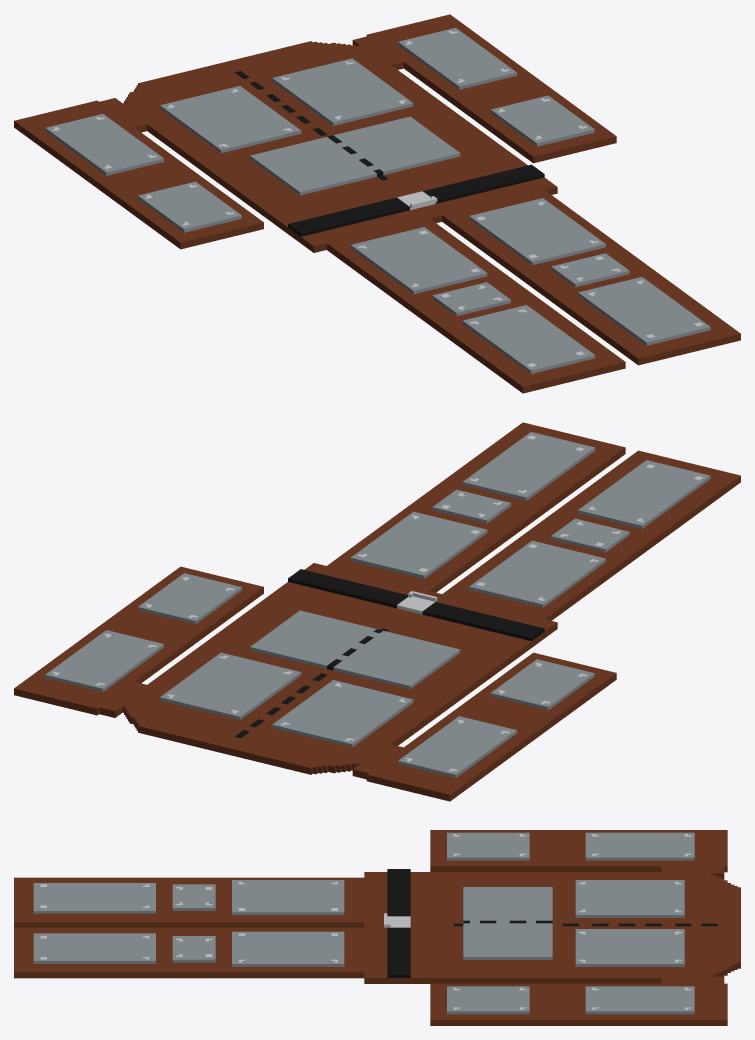
The model's file is armor_plarmor.glb.
3 views of the same model, one above another, from view 1: azimuth 30°, elevation 25°; view 2: azimuth 150°, elevation 25°; view 3: azimuth 270°, elevation 25° (orthographic). The views are drawn at different scales.
Visible parts, largest first — view 1: armor_plarmor:compound; view 2: armor_plarmor:compound; view 3: armor_plarmor:compound.
Boxes of the visible parts, left/top/right/bottom form: armor_plarmor:compound: left=14, top=14, right=740, bottom=393; armor_plarmor:compound: left=14, top=422, right=740, bottom=801; armor_plarmor:compound: left=14, top=830, right=740, bottom=1025.
Size of the model in its own units: 0.816 by 0.024 by 1.32.
